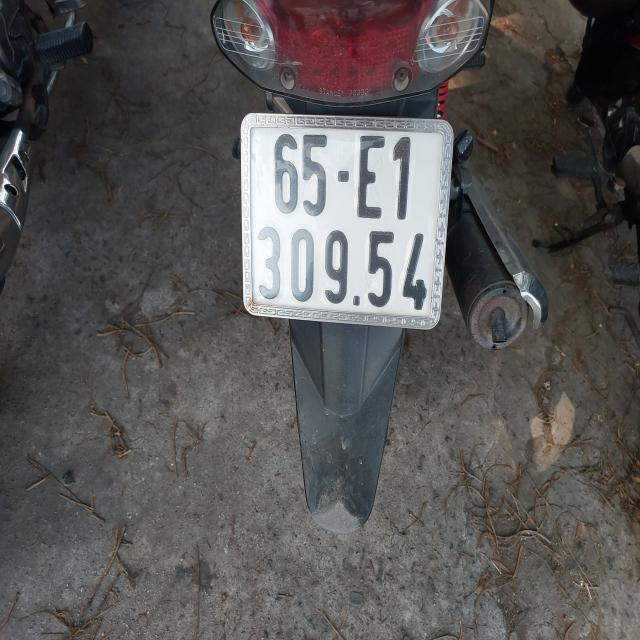0: (288, 228, 314, 304)
1: (391, 136, 415, 219)
3: (254, 226, 282, 298)
4: (402, 234, 426, 311)
5: (300, 132, 330, 216), (368, 230, 394, 308)
6: (270, 130, 300, 215)
9: (326, 230, 348, 302)
E: (357, 135, 386, 218)
